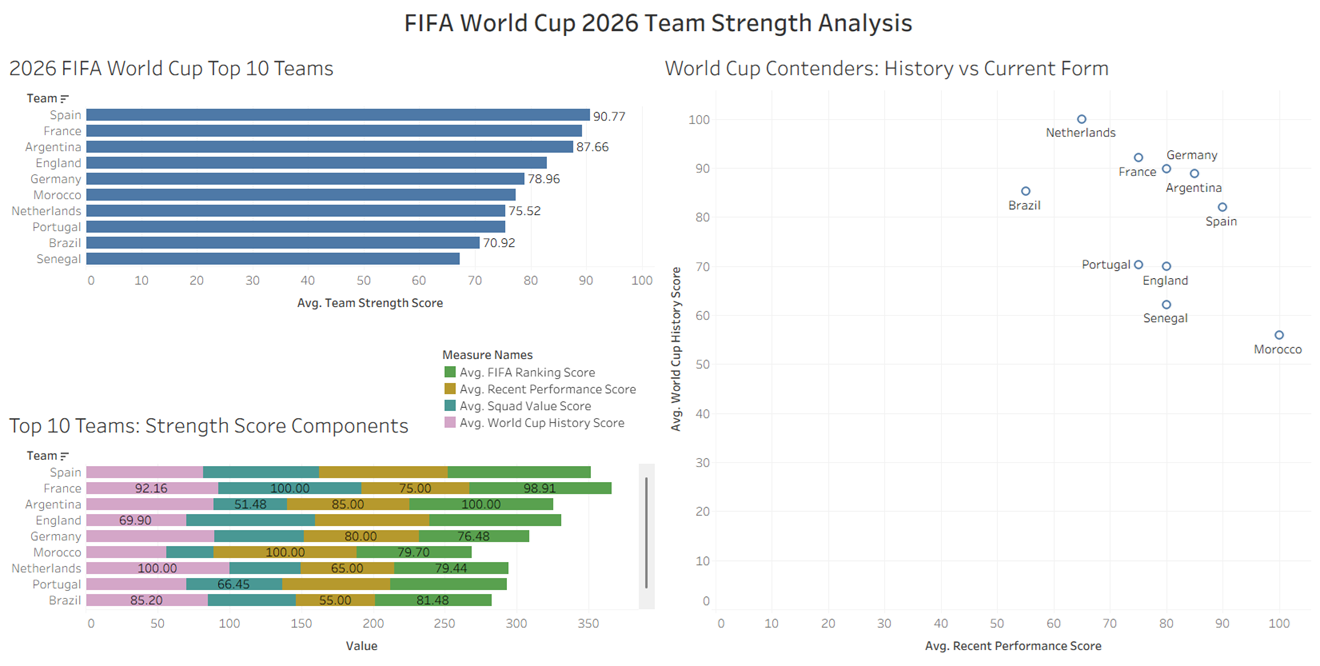

This screenshot's page, from the dashboard's own definition file:
{"tool":"tableau","page":{"name":"FIFA World Cup 2026 Prediction Dashboard","canvas":[1000,1000],"units":"permille","ordinal":0},"visuals":[{"type":"title","box":[4.8,9.4,990.3,76.4]},{"type":"worksheet","title":"Top 10 Teams","mark":"Automatic","rows":["Team"],"cols":["Team Strength Score"],"box":[4.8,85.8,495.1,525.5]},{"type":"worksheet","title":"Performance vs History","mark":"Automatic","rows":["World Cup History Score"],"cols":["Recent Performance Score"],"box":[500,85.8,495.2,904.8]},{"type":"legend","title":"Top 10 Score Components","param":"[federated.0oo224w0lcppy213y543k0a0qned].[:Measure Names]","box":[336.9,525.3,215.5,124.6]},{"type":"worksheet","title":"Top 10 Score Components","mark":"Automatic","rows":["Team"],"box":[4.8,611.3,495.1,379.3]}]}

Visuals, with their boxes on the dashboard's canvas, which has no fixed pixel size, in thousandths of its width and height (x1, y1, x2, y2). These are canvas units, not pixel positions in the 1320x666 screenshot, which may show the page scaled, cropped or inside an application window:
title: Rect(5, 9, 995, 86)
"Top 10 Teams" worksheet: Rect(5, 86, 500, 611)
"Performance vs History" worksheet: Rect(500, 86, 995, 991)
"Top 10 Score Components" legend: Rect(337, 525, 552, 650)
"Top 10 Score Components" worksheet: Rect(5, 611, 500, 991)
